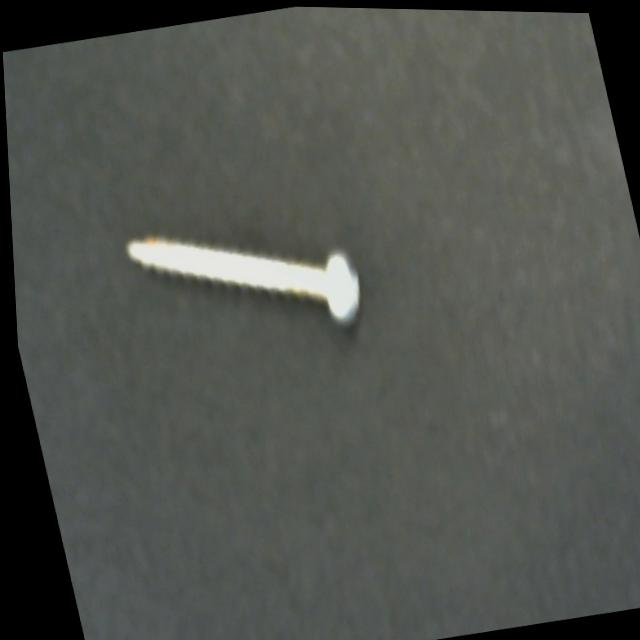SheetMetalScrew: (115, 180, 378, 375)
